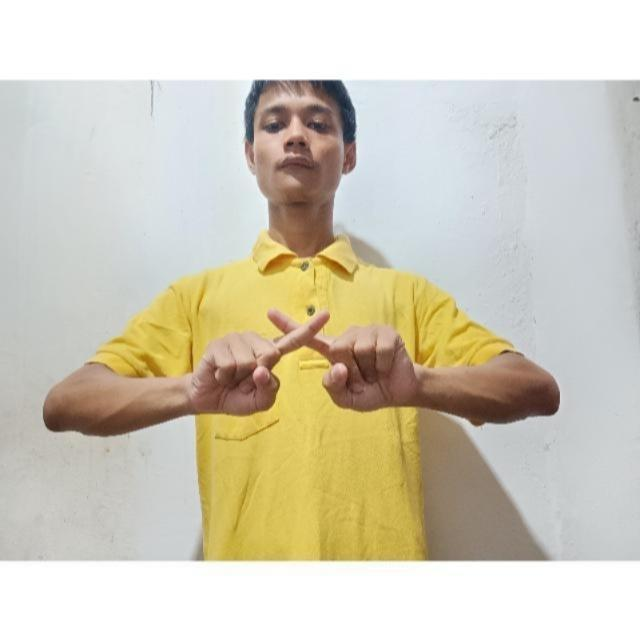X: (185, 294, 424, 419)
